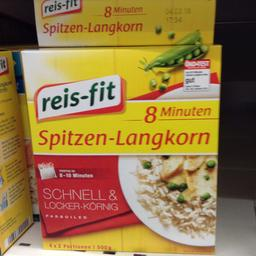rice: (18, 44, 220, 254)
